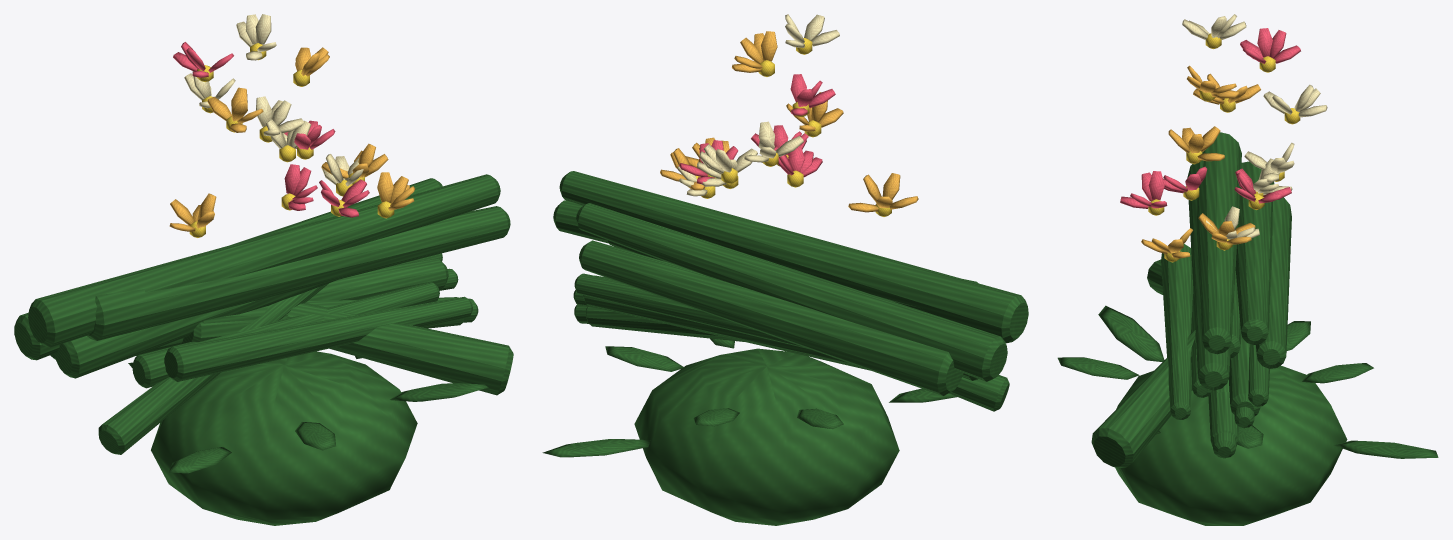
File: flower_cluster.glb
3 renders of one model, left to right at view 1: azimuth 30°, elevation 25°; view 2: azimuth 150°, elevation 25°; view 3: azimuth 270°, elevation 25°, orthographic. The views are drawn at different scales.
Visible parts, largest first — view 1: flower_cluster_mound, flower_cluster_stem7, flower_cluster_stem10, flower_cluster_stem9, flower_cluster_stem11, flower_cluster_stem5, flower_cluster_stem6, flower_cluster_stem8, flower_cluster_stem0, flower_cluster_stem4, flower_cluster_leaf6, flower_cluster_stem13 (+3 smaller); view 2: flower_cluster_mound, flower_cluster_stem7, flower_cluster_stem4, flower_cluster_stem3, flower_cluster_stem2, flower_cluster_stem0, flower_cluster_stem13, flower_cluster_stem6, flower_cluster_leaf1, flower_cluster_leaf0, flower_cluster_stem10, flower_cluster_leaf3 (+2 smaller); view 3: flower_cluster_mound, flower_cluster_stem7, flower_cluster_stem11, flower_cluster_stem4, flower_cluster_stem9, flower_cluster_stem3, flower_cluster_stem10, flower_cluster_leaf4, flower_cluster_stem0, flower_cluster_leaf1, flower_cluster_stem13, flower_cluster_leaf5 (+7 smaller).
Part boxes in pixels (x1,y1,x2,y2): flower_cluster_mound: (151,351,417,525); flower_cluster_stem7: (28,174,500,347); flower_cluster_stem10: (87,206,510,340); flower_cluster_stem9: (164,296,472,381); flower_cluster_stem11: (287,303,513,395); flower_cluster_stem5: (54,280,336,378); flower_cluster_stem6: (98,283,328,454); flower_cluster_stem8: (132,282,439,388); flower_cluster_stem0: (136,258,448,356); flower_cluster_stem4: (14,178,442,360); flower_cluster_leaf6: (390,383,488,401); flower_cluster_stem13: (181,297,464,344); flower_cluster_mound: (634,348,899,525); flower_cluster_stem7: (559,171,1028,343); flower_cluster_stem4: (576,203,1007,381); flower_cluster_stem3: (579,240,963,395); flower_cluster_stem2: (574,273,809,349); flower_cluster_stem0: (582,275,869,370); flower_cluster_stem13: (586,307,743,341); flower_cluster_stem6: (949,375,1009,411); flower_cluster_leaf1: (542,439,650,457); flower_cluster_leaf0: (605,346,684,371); flower_cluster_stem10: (553,200,977,311); flower_cluster_leaf3: (797,408,843,429); flower_cluster_mound: (1115,365,1347,525); flower_cluster_stem7: (1197,132,1241,354); flower_cluster_stem11: (1091,330,1195,467); flower_cluster_stem4: (1235,161,1274,344); flower_cluster_stem9: (1161,244,1193,419); flower_cluster_stem3: (1256,197,1291,368); flower_cluster_stem10: (1187,160,1230,390); flower_cluster_leaf4: (1098,305,1164,361); flower_cluster_stem0: (1228,334,1260,416); flower_cluster_leaf1: (1333,440,1438,458); flower_cluster_stem13: (1208,390,1238,446); flower_cluster_leaf5: (1057,357,1139,379).
Bounding box in the file's own units: 0.9338 × 0.9537 × 0.6832.
Materials: 5 (5 with a texture image).
